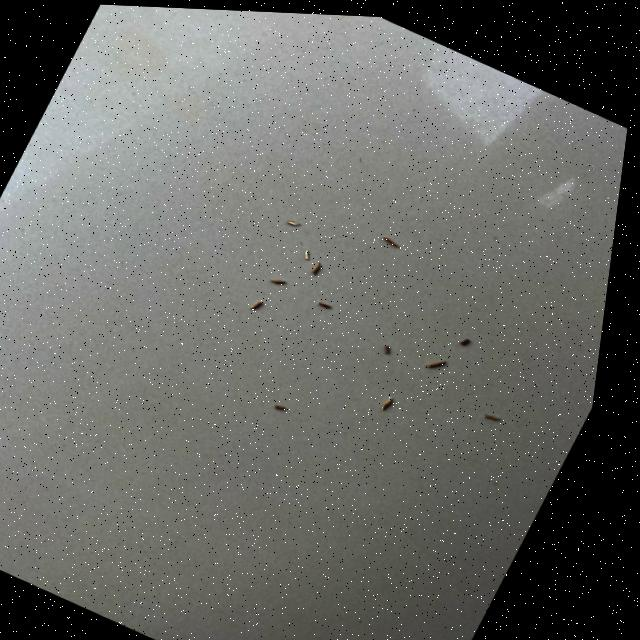Wereng: (420, 351, 451, 376), (295, 245, 319, 264), (270, 275, 299, 290), (248, 297, 268, 318), (481, 411, 505, 427), (379, 394, 397, 413), (282, 217, 306, 231), (382, 236, 404, 251), (378, 343, 397, 360), (314, 298, 336, 312), (311, 261, 327, 280), (459, 334, 475, 349), (272, 403, 288, 415)
